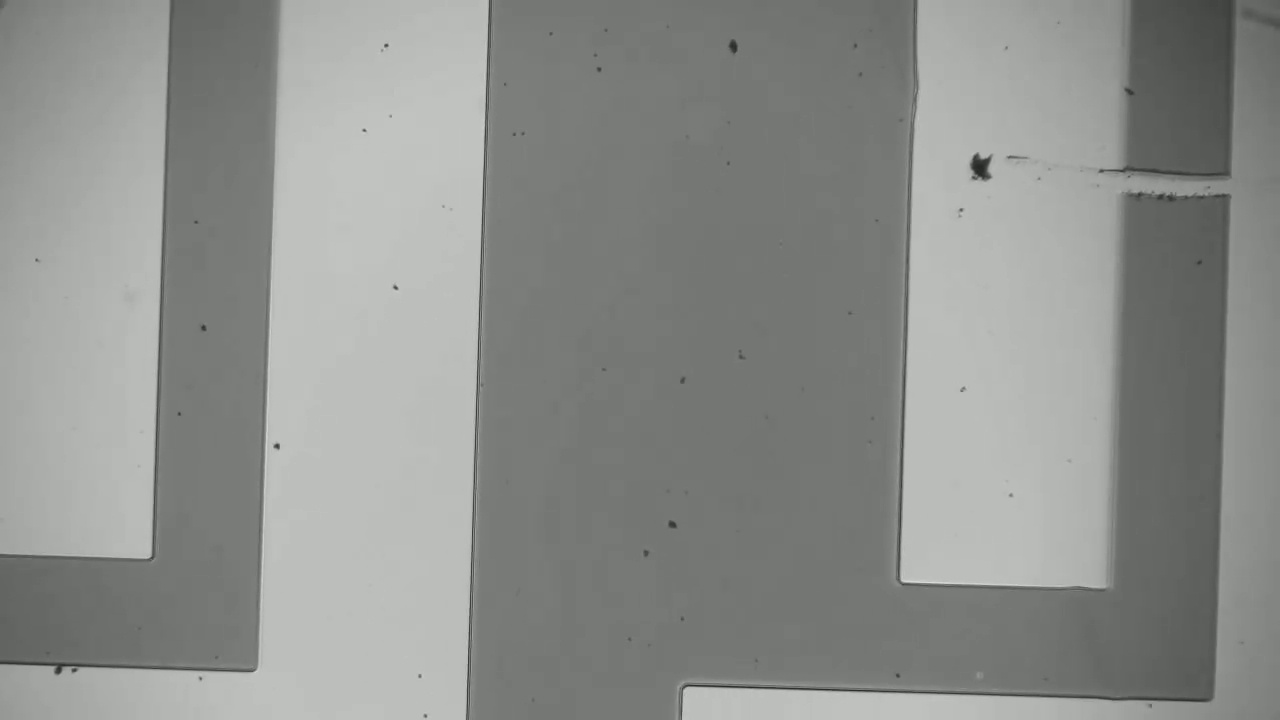Short_circuit: (1101, 155, 1250, 221)
